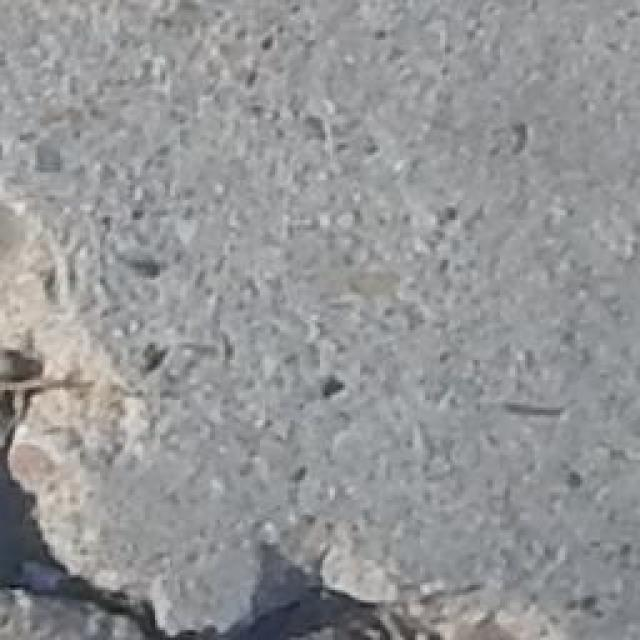concrete-crack: (0, 345, 459, 640)
